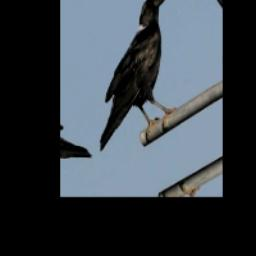Crow: (69, 0, 201, 168)
